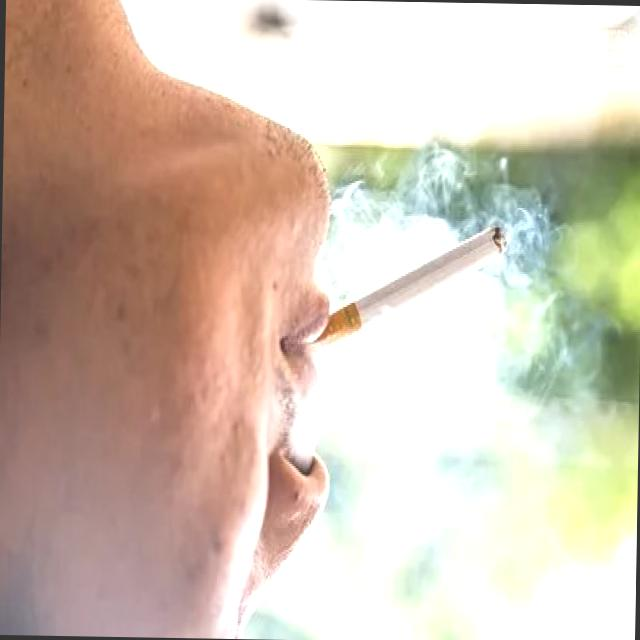cigarette: (302, 212, 512, 372)
